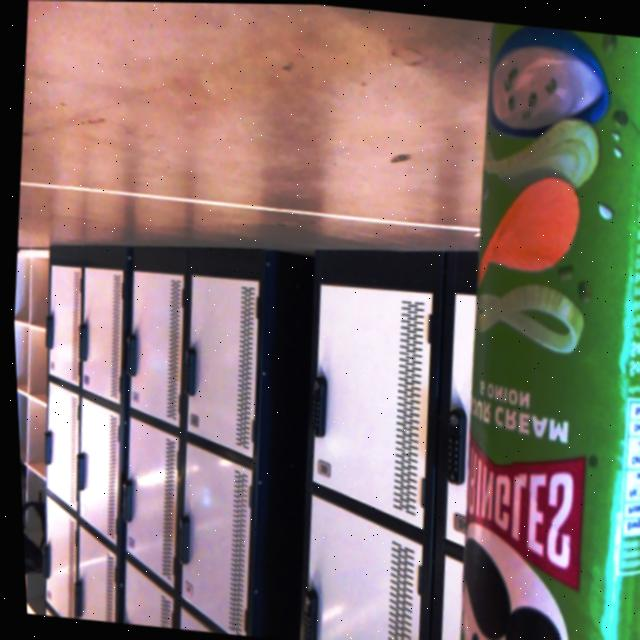greenpringles: (387, 14, 640, 640)
